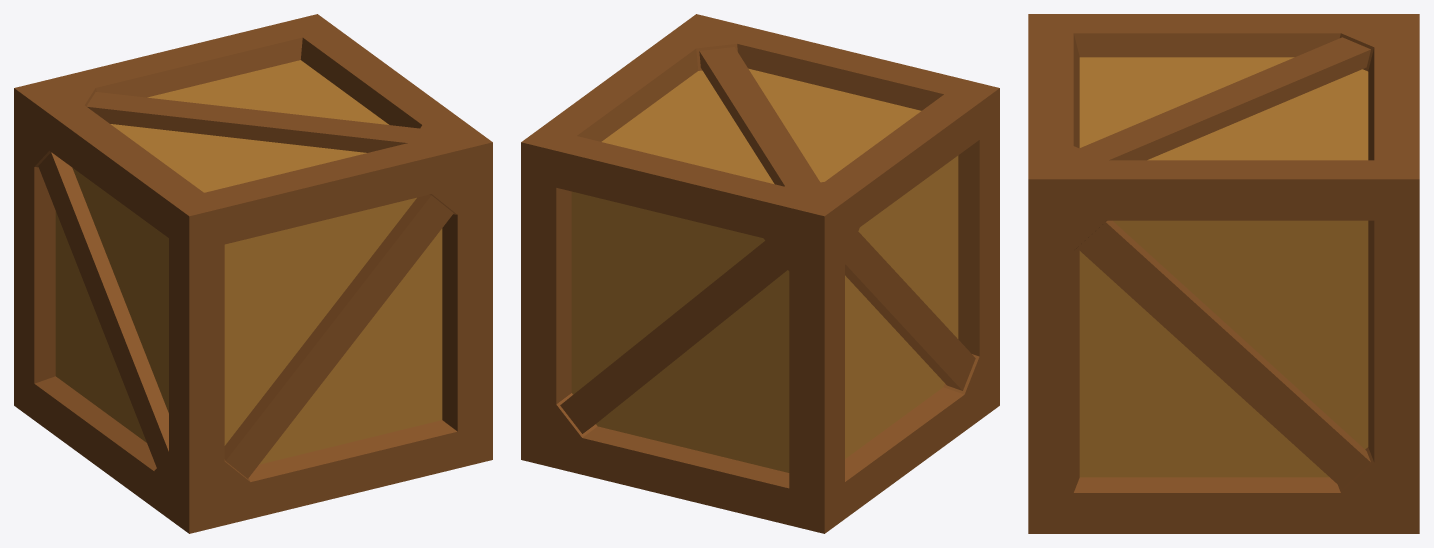
3 views of the same model, side by side, from view 1: azimuth 30°, elevation 25°; view 2: azimuth 150°, elevation 25°; view 3: azimuth 270°, elevation 25° (orthographic). The views are drawn at different scales.
Visible parts, largest first — view 1: Cube.012; view 2: Cube.012; view 3: Cube.012.
Boxes of the visible parts, x1,y1,x2,y2 form: Cube.012: (14,14,492,533); Cube.012: (521,14,999,533); Cube.012: (1028,14,1419,533).
Bounding box in the file's own units: 228 × 228 × 228.
